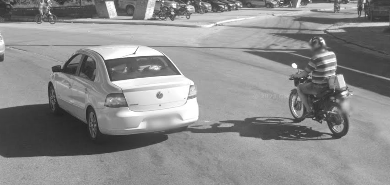car: (45, 40, 203, 147)
